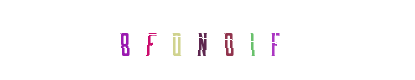0: (167, 0, 247, 80)
1: (174, 0, 254, 80)
8: (109, 0, 189, 80)
D: (149, 0, 229, 80)
F: (134, 0, 214, 80), (212, 0, 292, 80)
N: (155, 0, 235, 80)
